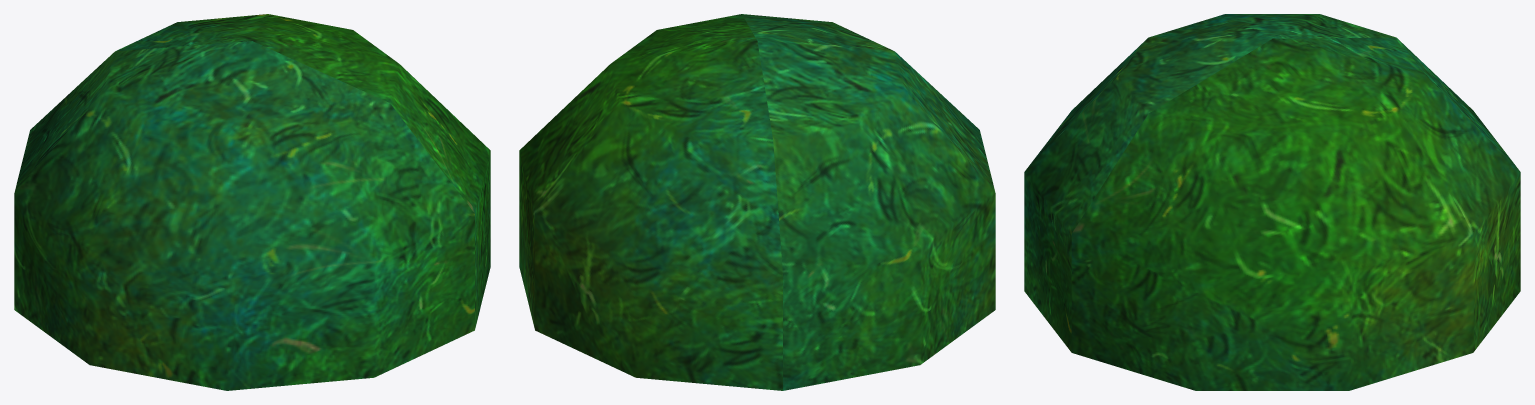
File: bushes.FBX
3 renders of one model, left to right at view 1: azimuth 30°, elevation 25°; view 2: azimuth 150°, elevation 25°; view 3: azimuth 270°, elevation 25°, orthographic.
Visible parts, largest first — view 1: Sphere001; view 2: Sphere001; view 3: Sphere001.
Part boxes in pixels (<box>): Sphere001: <box>14,14,490,390</box>; Sphere001: <box>519,14,995,390</box>; Sphere001: <box>1024,14,1520,390</box>.
Bounding box in the file's own units: 15.14 × 15.91 × 8.93.
